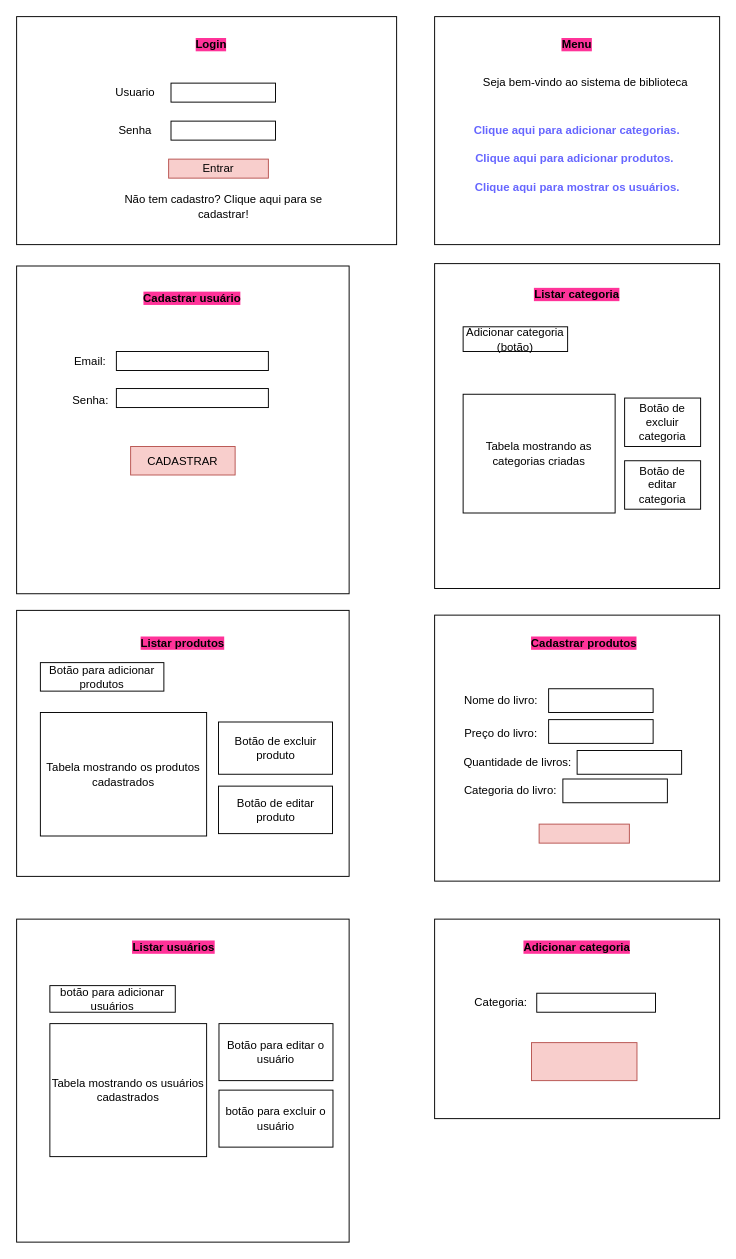
Some shapes in this 736 by 1259 pixel diagram are drawn without their labels. Here are the shapes that lost their labels. From the top down, the centre of each, then its label:
(x=583, y=833): Cadastrar livro
(x=584, y=1061): Salvar
